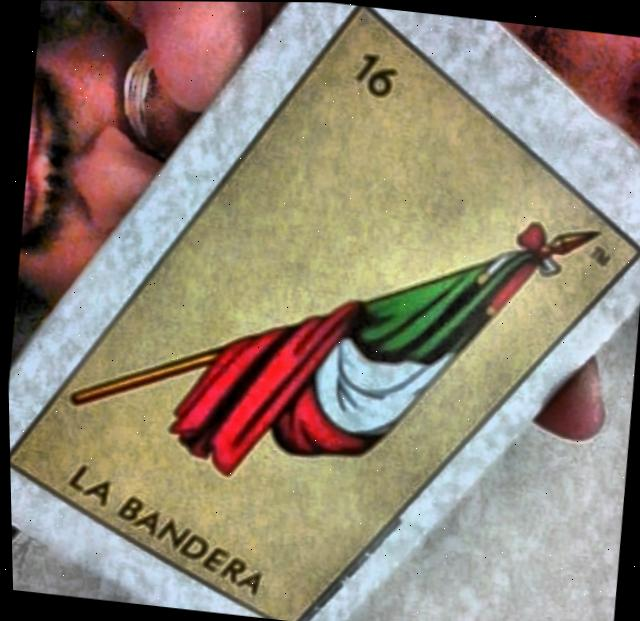La Bandera: (8, 5, 640, 621)
